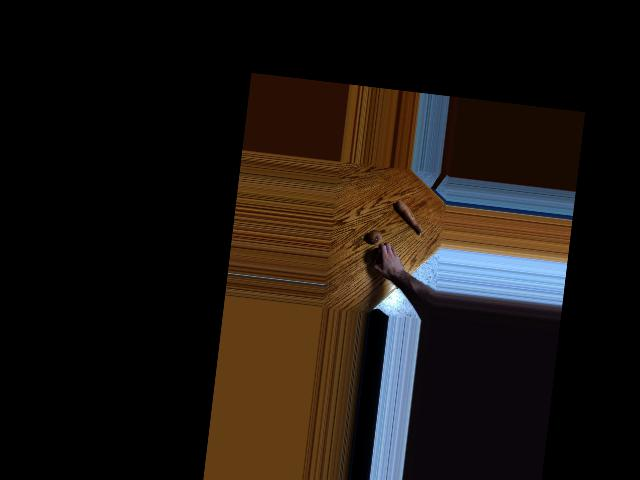onion: (371, 247, 384, 263)
